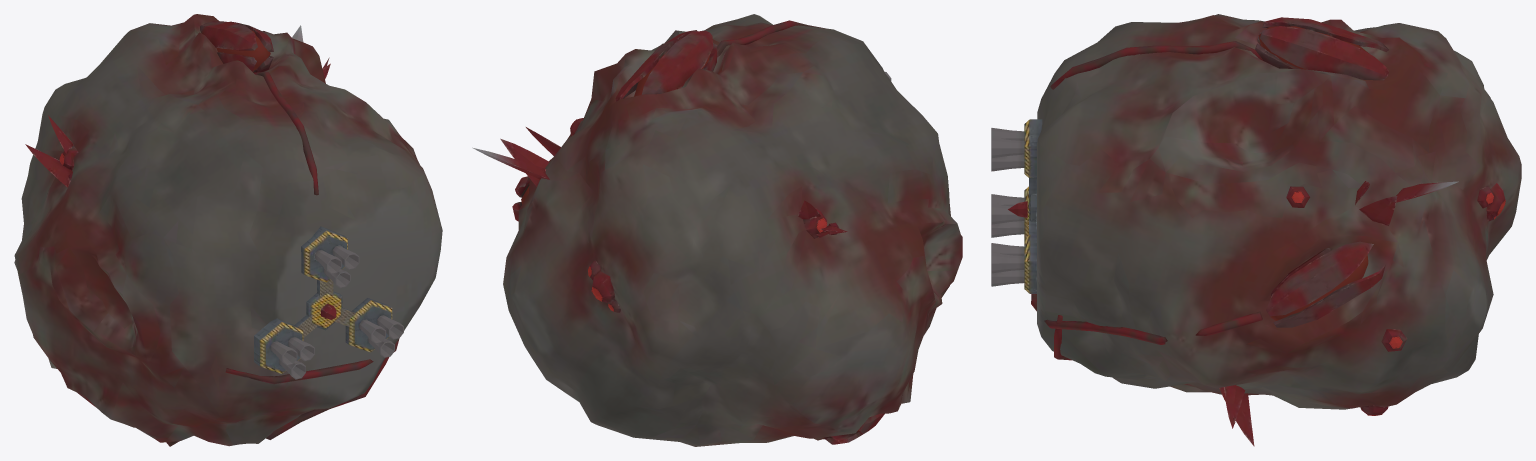
File: seed.glb
3 views of the same model, side by side, from view 1: azimuth 30°, elevation 25°; view 2: azimuth 150°, elevation 25°; view 3: azimuth 270°, elevation 25° (orthographic). The views are drawn at different scales.
Parts seen in each view (by area): view 1: rock; view 2: rock; view 3: rock.
Part boxes in pixels (x1,y1,x2,y2): rock: (14, 14, 442, 446); rock: (472, 14, 962, 446); rock: (991, 14, 1521, 446).
Bounding box in the file's own units: 34.85 × 33.84 × 39.72.
1 material, 1 textured.
